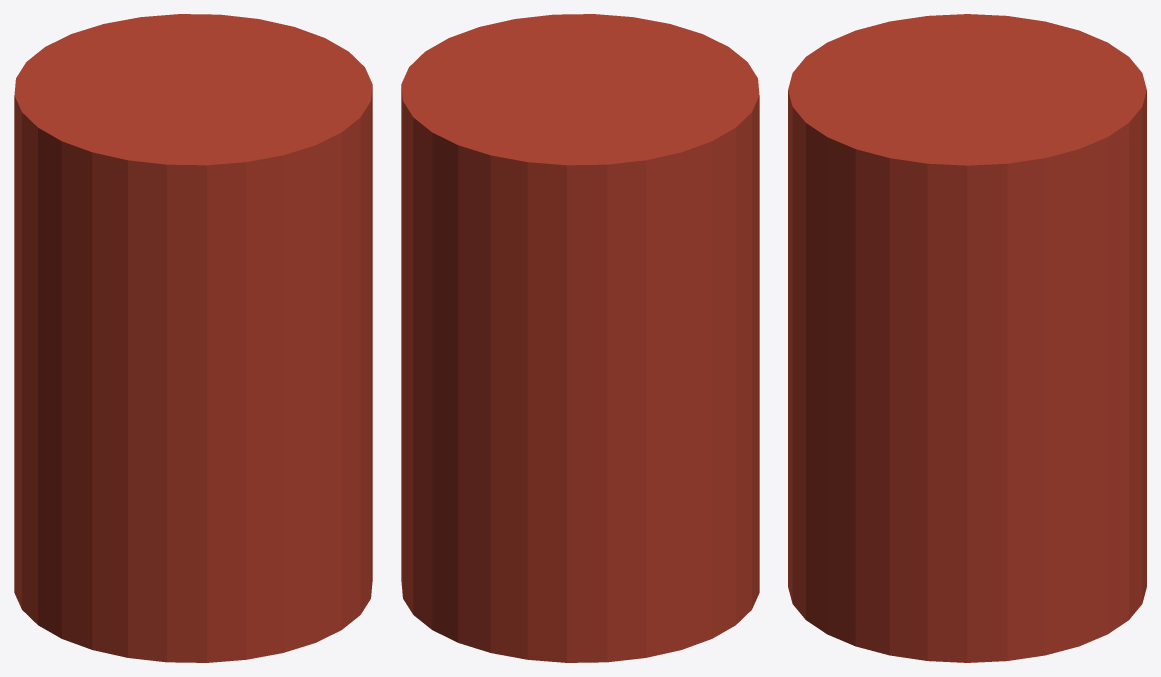
Rendered from Tower_TowerRed.fbx.
The picture shows the model from 3 angles, left to right: view 1: azimuth 30°, elevation 25°; view 2: azimuth 150°, elevation 25°; view 3: azimuth 270°, elevation 25°; orthographic projection.
Parts seen in each view (by area): view 1: TowerBody.001; view 2: TowerBody.001; view 3: TowerBody.001.
Boxes of the visible parts, x1,y1,x2,y2 form: TowerBody.001: (14, 14, 372, 662); TowerBody.001: (401, 14, 759, 662); TowerBody.001: (788, 14, 1146, 662).
Size of the model in its own units: 1700 by 2600 by 1700.
